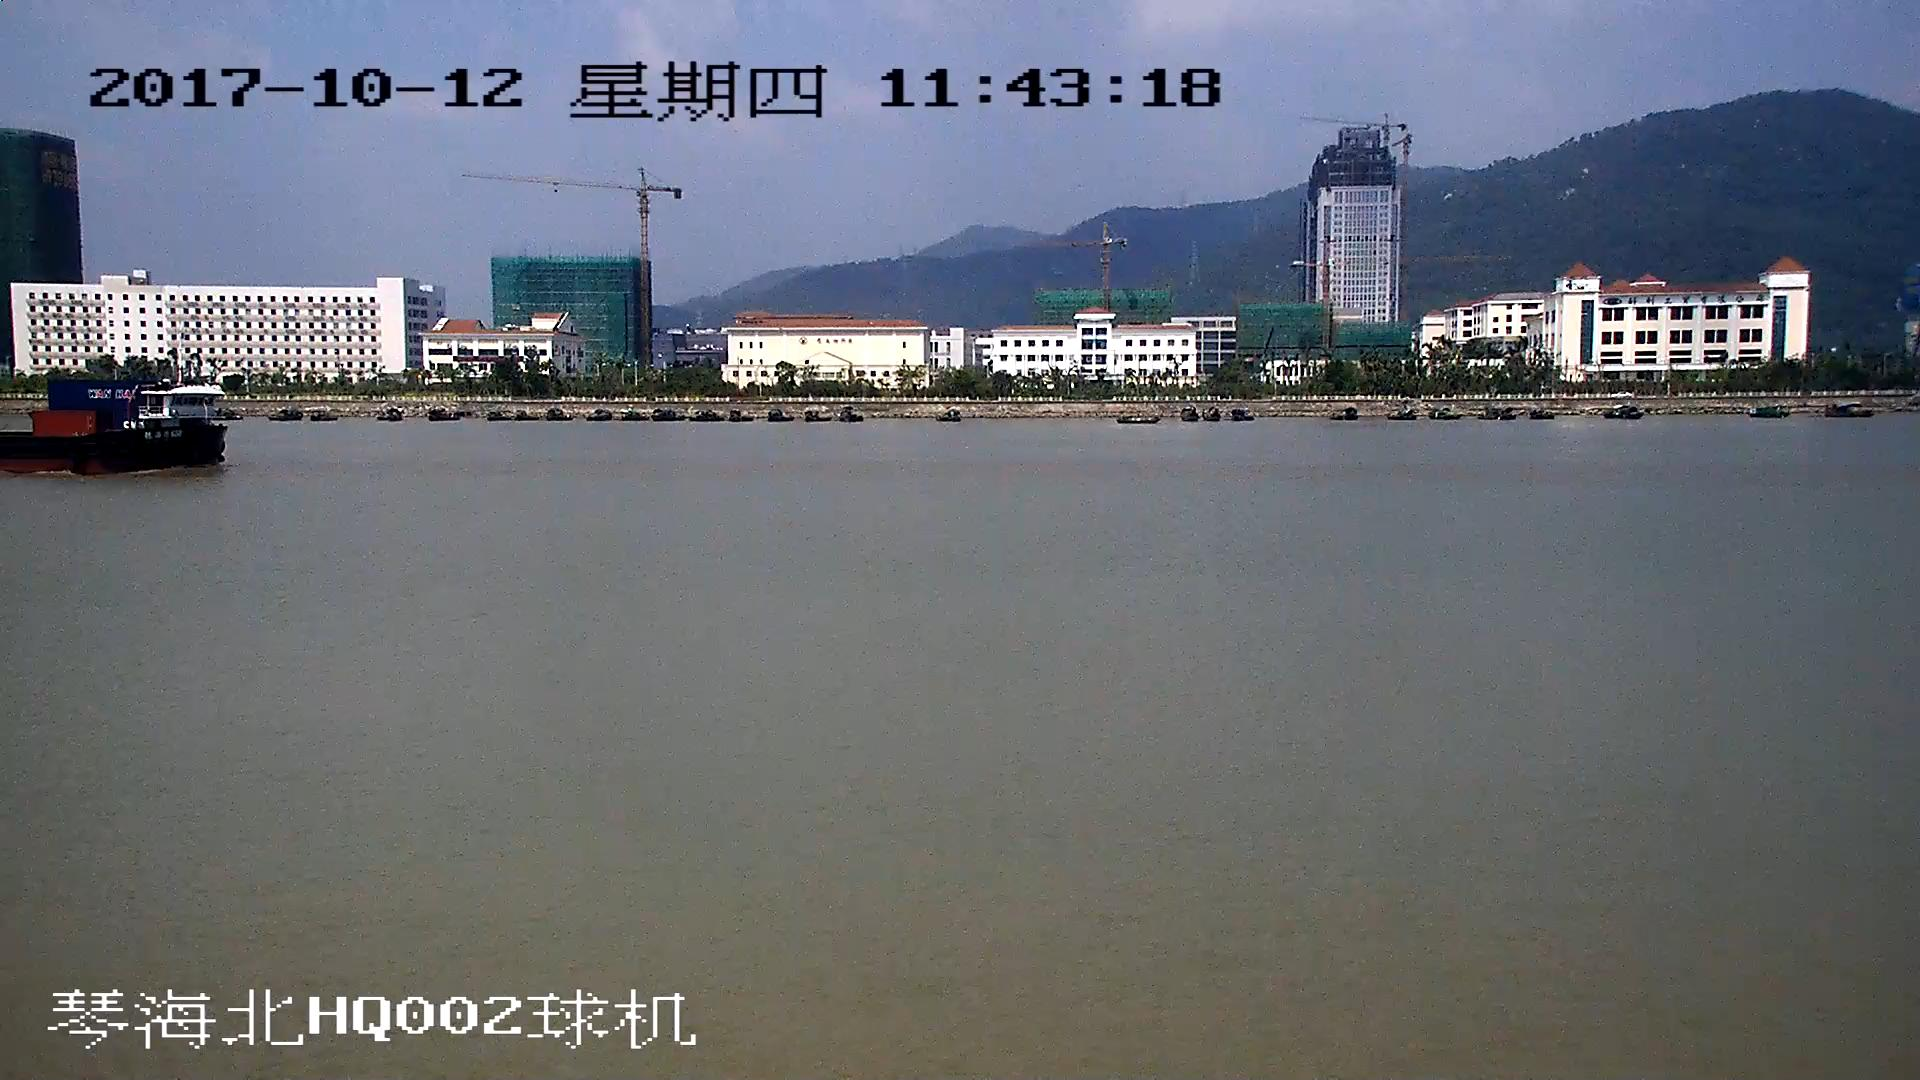container ship: (1, 381, 225, 475)
